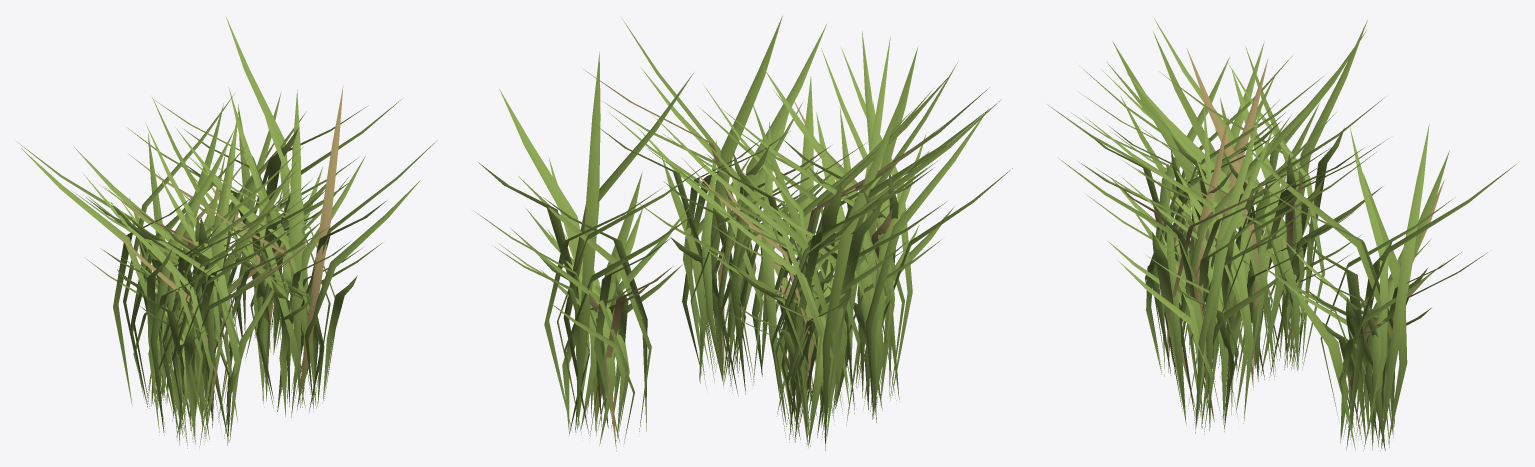
File: grass-clump-065.glb
3 renders of one model, left to right at view 1: azimuth 30°, elevation 25°; view 2: azimuth 150°, elevation 25°; view 3: azimuth 270°, elevation 25°, orthographic. The views are drawn at different scales.
Parts seen in each view (by area): view 1: grass-clump-065 / N07 / sunlit young leaf, grass-clump-065 / N08 / meadow blade, grass-clump-065 / N09 / dry grass and litter; view 2: grass-clump-065 / N07 / sunlit young leaf, grass-clump-065 / N08 / meadow blade, grass-clump-065 / N09 / dry grass and litter; view 3: grass-clump-065 / N07 / sunlit young leaf, grass-clump-065 / N08 / meadow blade, grass-clump-065 / N09 / dry grass and litter.
Part boxes in pixels (x1,y1,x2,y2): grass-clump-065 / N07 / sunlit young leaf: [21, 17, 420, 448]; grass-clump-065 / N08 / meadow blade: [17, 92, 437, 445]; grass-clump-065 / N09 / dry grass and litter: [100, 86, 343, 444]; grass-clump-065 / N07 / sunlit young leaf: [478, 24, 1001, 447]; grass-clump-065 / N08 / meadow blade: [473, 16, 1012, 450]; grass-clump-065 / N09 / dry grass and litter: [582, 68, 947, 451]; grass-clump-065 / N07 / sunlit young leaf: [1070, 17, 1516, 451]; grass-clump-065 / N08 / meadow blade: [1047, 20, 1487, 448]; grass-clump-065 / N09 / dry grass and litter: [1115, 48, 1444, 443].
Size of the model in its own units: 0.8088 by 0.5878 by 0.8425.
